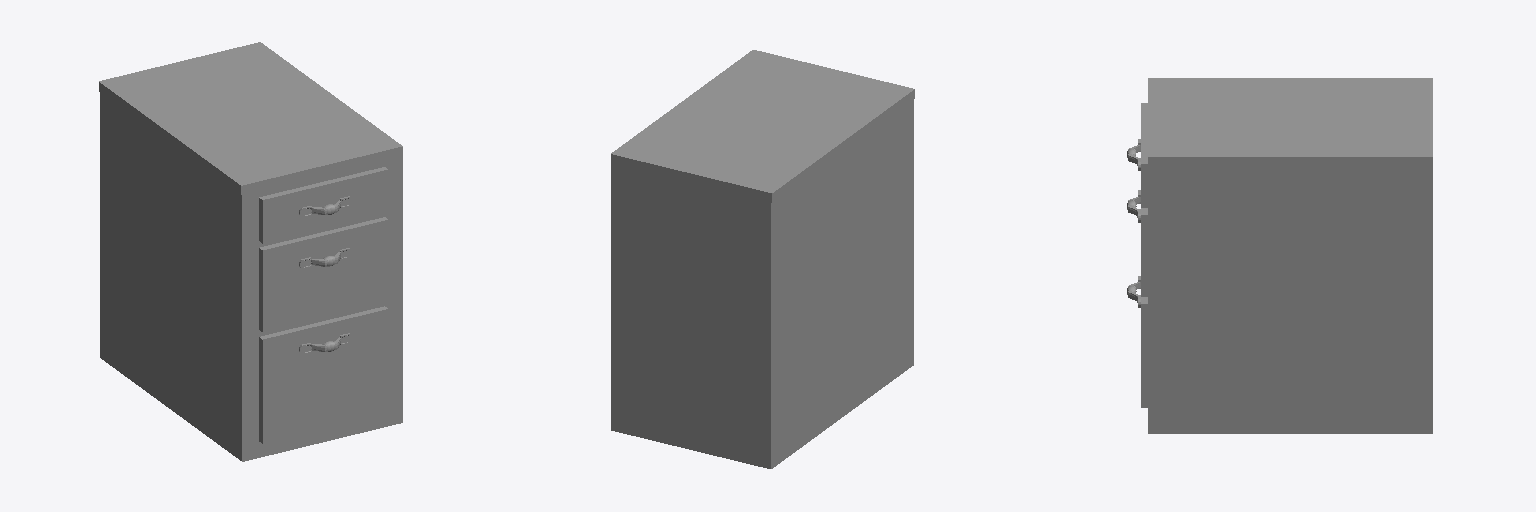
Rendered from 3DrawerCabinet.obj.
3 renders of one model, left to right at view 1: azimuth 30°, elevation 25°; view 2: azimuth 150°, elevation 25°; view 3: azimuth 270°, elevation 25°, orthographic.
Visible parts, largest first — view 1: PolyMesh_1_3.005, PolyMesh_2, Cube_3, Cube_3_1, Cube_3_2.001; view 2: PolyMesh_1_3.005, PolyMesh_2; view 3: PolyMesh_1_3.005, PolyMesh_2, Cube_3, Cube_3_2.001, Cube_3_1.
Part boxes in pixels (left/top/right/bottom): PolyMesh_1_3.005: left=100, top=92, right=402, bottom=461; PolyMesh_2: left=99, top=42, right=402, bottom=194; Cube_3: left=259, top=306, right=388, bottom=443; Cube_3_1: left=259, top=217, right=388, bottom=331; Cube_3_2.001: left=259, top=167, right=388, bottom=243; PolyMesh_1_3.005: left=611, top=100, right=913, bottom=468; PolyMesh_2: left=611, top=50, right=914, bottom=202; PolyMesh_1_3.005: left=1148, top=167, right=1432, bottom=433; PolyMesh_2: left=1148, top=78, right=1432, bottom=166; Cube_3: left=1141, top=297, right=1147, bottom=407; Cube_3_2.001: left=1141, top=103, right=1147, bottom=207; Cube_3_1: left=1141, top=208, right=1147, bottom=296.
Bounding box in the file's own units: 3.92 × 6.41 × 6.43.